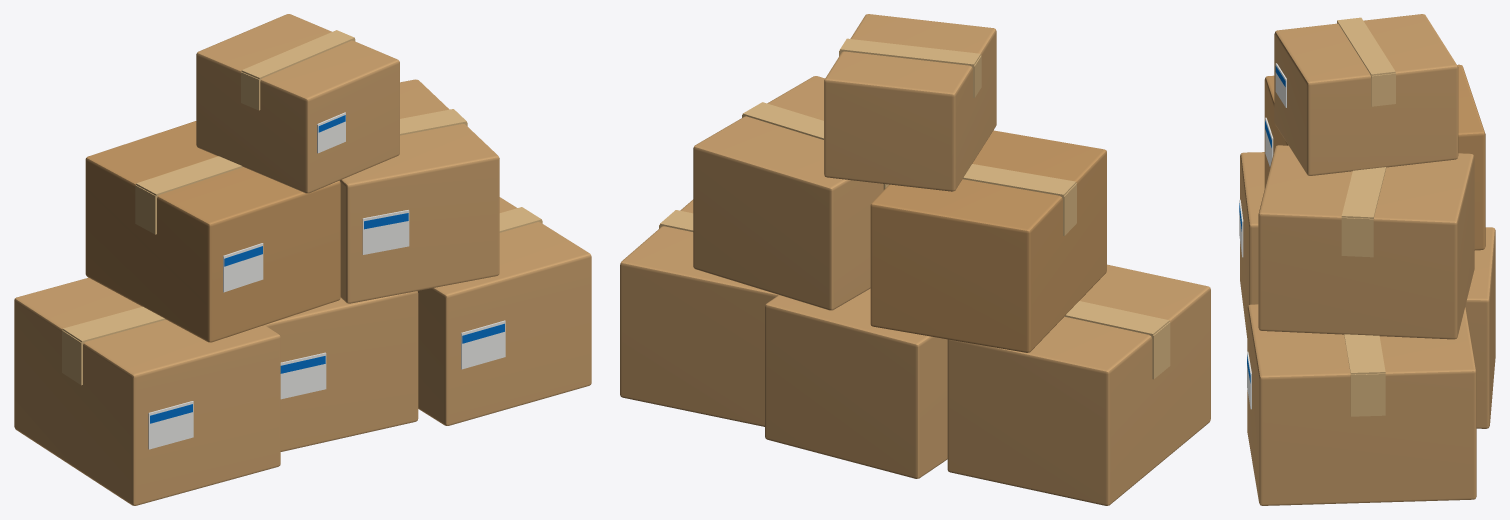
File: case_stack_loose.glb
3 views of the same model, side by side, from view 1: azimuth 30°, elevation 25°; view 2: azimuth 150°, elevation 25°; view 3: azimuth 270°, elevation 25° (orthographic). The views are drawn at different scales.
Visible parts, largest first — view 1: cases_geo; view 2: cases_geo; view 3: cases_geo.
Boxes of the visible parts, x1,y1,x2,y2 form: cases_geo: [14, 14, 591, 505]; cases_geo: [620, 14, 1210, 505]; cases_geo: [1239, 14, 1495, 505].
Size of the model in its own units: 1.25 by 0.8745 by 0.5881.
